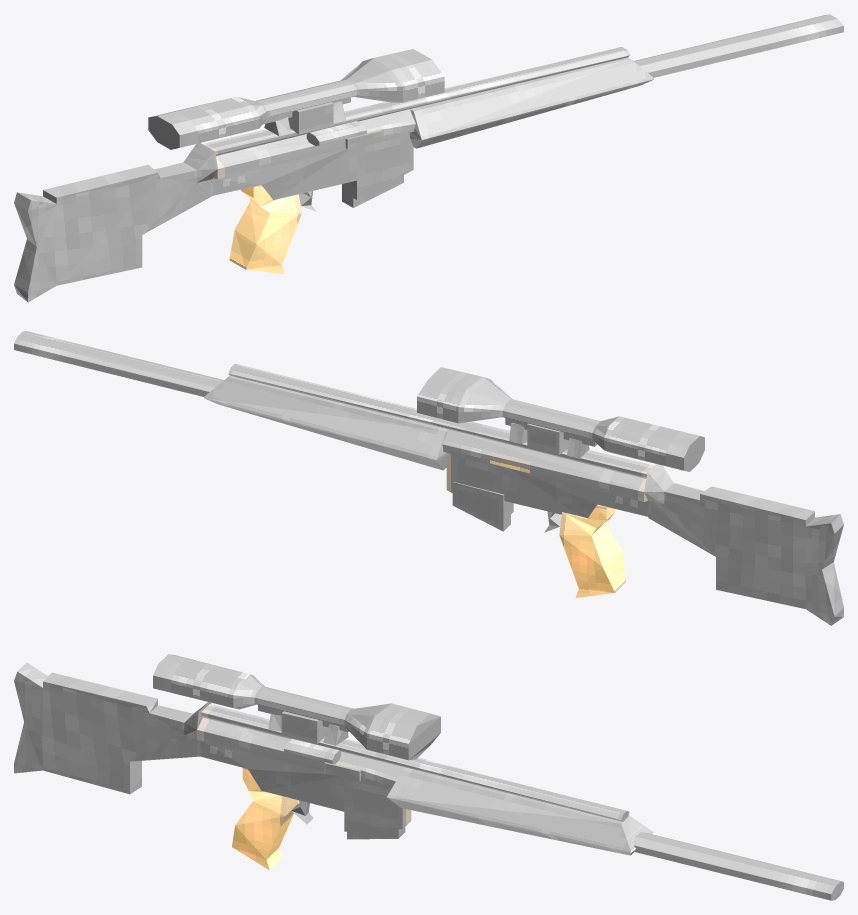
The model's file is g_psg.glb.
The picture shows the model from 3 angles, top to bottom: view 1: azimuth 30°, elevation 25°; view 2: azimuth 150°, elevation 25°; view 3: azimuth 330°, elevation 25°; orthographic projection.
Parts seen in each view (by area): view 1: g_psg1; view 2: g_psg1; view 3: g_psg1.
Boxes of the visible parts, x1,y1,x2,y2 form: g_psg1: (14, 14, 843, 302); g_psg1: (14, 331, 843, 625); g_psg1: (14, 654, 843, 900).
Bounding box in the file's own units: 6.98 × 1.47 × 0.5397.
